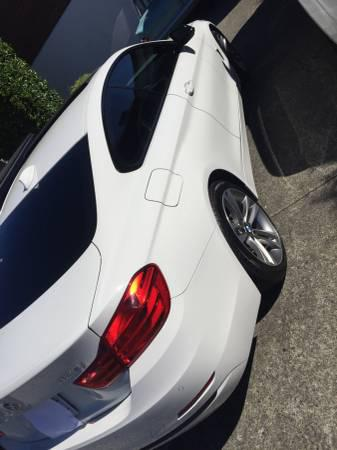bmw: (1, 11, 291, 450)
